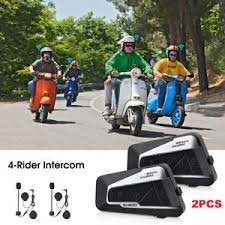helmet: (117, 33, 137, 57), (164, 44, 183, 66)
